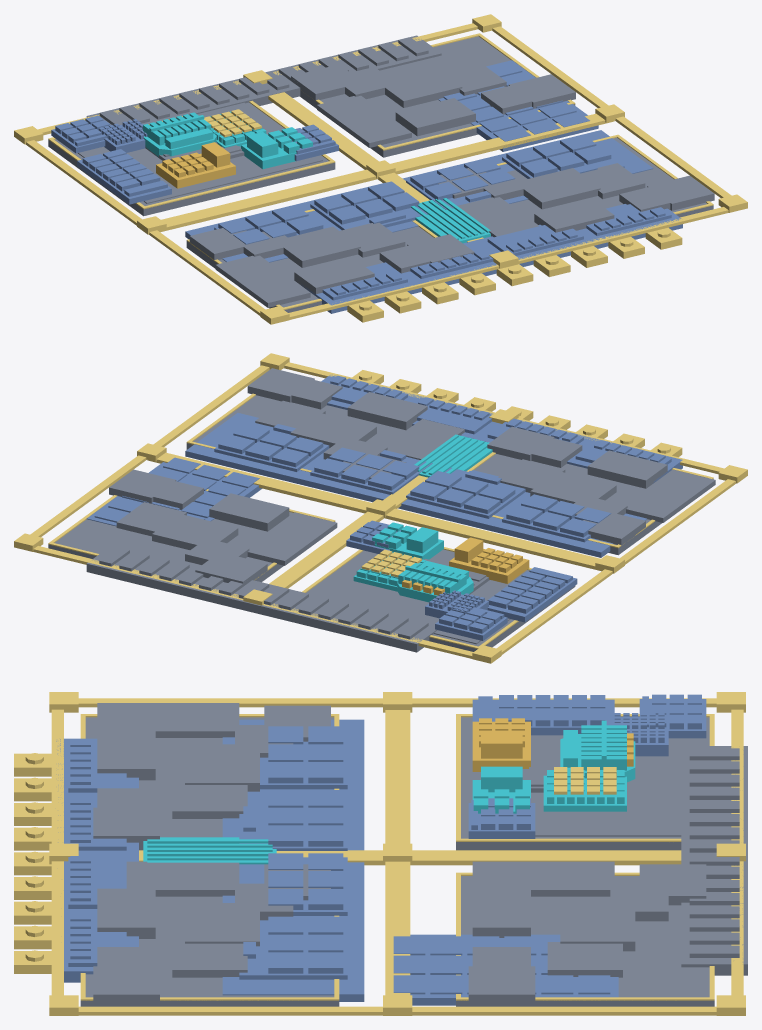
The model's file is cpu_die_core_v1.glb.
3 views of the same model, one above another, from view 1: azimuth 30°, elevation 25°; view 2: azimuth 150°, elevation 25°; view 3: azimuth 270°, elevation 25° (orthographic). The views are drawn at different scales.
Visible parts, largest first — view 1: tianedge__die-cpu-cores__replica-blocks, tianedge__die-interconnect__ring, tianedge__mem-l3-cache__slices, tianedge__die-cpu-cores__tiles, tianedge__die-memory-controller__block, tianedge__die-cache-regions__banks, tianedge__die-io-controller__block, tianedge__mem-main-interface__phy, tianedge__die-execution-units__zone, tianedge__mem-l2-cache__sram, tianedge__die-cpu-cores__outline, tianedge__core-alu__unit (+8 smaller); view 2: tianedge__die-cpu-cores__replica-blocks, tianedge__die-interconnect__ring, tianedge__mem-l3-cache__slices, tianedge__die-cache-regions__banks, tianedge__die-io-controller__block, tianedge__die-cpu-cores__tiles, tianedge__die-memory-controller__block, tianedge__die-execution-units__zone, tianedge__mem-l2-cache__sram, tianedge__mem-main-interface__phy, tianedge__die-cpu-cores__outline, tianedge__core-control-unit__sequencer (+8 smaller); view 3: tianedge__die-cpu-cores__replica-blocks, tianedge__die-interconnect__ring, tianedge__die-cpu-cores__tiles, tianedge__mem-l3-cache__slices, tianedge__die-cache-regions__banks, tianedge__die-io-controller__block, tianedge__die-memory-controller__block, tianedge__mem-main-interface__phy, tianedge__die-execution-units__zone, tianedge__die-cpu-cores__outline, tianedge__mem-l2-cache__sram, tianedge__comm-memory-interface__bridge (+9 smaller).
Boxes of the visible parts, left/top/right/bottom form: tianedge__die-cpu-cores__replica-blocks: left=189, top=61, right=714, bottom=307; tianedge__die-interconnect__ring: left=14, top=14, right=747, bottom=324; tianedge__mem-l3-cache__slices: left=214, top=134, right=624, bottom=244; tianedge__die-cpu-cores__tiles: left=48, top=36, right=713, bottom=312; tianedge__die-memory-controller__block: left=301, top=204, right=682, bottom=313; tianedge__die-cache-regions__banks: left=185, top=60, right=653, bottom=262; tianedge__die-io-controller__block: left=86, top=35, right=441, bottom=125; tianedge__mem-main-interface__phy: left=347, top=227, right=682, bottom=322; tianedge__die-execution-units__zone: left=78, top=102, right=322, bottom=203; tianedge__mem-l2-cache__sram: left=77, top=149, right=171, bottom=204; tianedge__die-cpu-cores__outline: left=48, top=33, right=713, bottom=309; tianedge__core-alu__unit: left=143, top=112, right=216, bottom=156; tianedge__die-cpu-cores__replica-blocks: left=109, top=368, right=715, bottom=583; tianedge__die-interconnect__ring: left=14, top=353, right=747, bottom=663; tianedge__mem-l3-cache__slices: left=214, top=419, right=611, bottom=542; tianedge__die-cache-regions__banks: left=86, top=413, right=646, bottom=557; tianedge__die-io-controller__block: left=86, top=545, right=437, bottom=652; tianedge__die-cpu-cores__tiles: left=48, top=395, right=713, bottom=651; tianedge__die-memory-controller__block: left=321, top=374, right=682, bottom=483; tianedge__die-execution-units__zone: left=310, top=550, right=526, bottom=644; tianedge__mem-l2-cache__sram: left=487, top=567, right=577, bottom=622; tianedge__mem-main-interface__phy: left=352, top=370, right=682, bottom=457; tianedge__die-cpu-cores__outline: left=48, top=393, right=713, bottom=648; tianedge__core-control-unit__sequencer: left=449, top=537, right=529, bottom=583; tianedge__die-cpu-cores__replica-blocks: left=93, top=703, right=706, bottom=1003; tianedge__die-interconnect__ring: left=49, top=692, right=745, bottom=1015; tianedge__die-cpu-cores__tiles: left=80, top=717, right=714, bottom=1006; tianedge__mem-l3-cache__slices: left=239, top=726, right=347, bottom=979; tianedge__die-cache-regions__banks: left=222, top=719, right=618, bottom=1005; tianedge__die-io-controller__block: left=681, top=746, right=747, bottom=975; tianedge__die-memory-controller__block: left=56, top=738, right=138, bottom=982; tianedge__mem-main-interface__phy: left=14, top=753, right=51, bottom=973; tianedge__die-execution-units__zone: left=468, top=719, right=701, bottom=836; tianedge__die-cpu-cores__outline: left=80, top=714, right=714, bottom=1000; tianedge__mem-l2-cache__sram: left=472, top=695, right=614, bottom=735; tianedge__comm-memory-interface__bridge: left=143, top=837, right=276, bottom=864.
Size of the model in its own units: 1.79 by 0.12 by 1.76.
